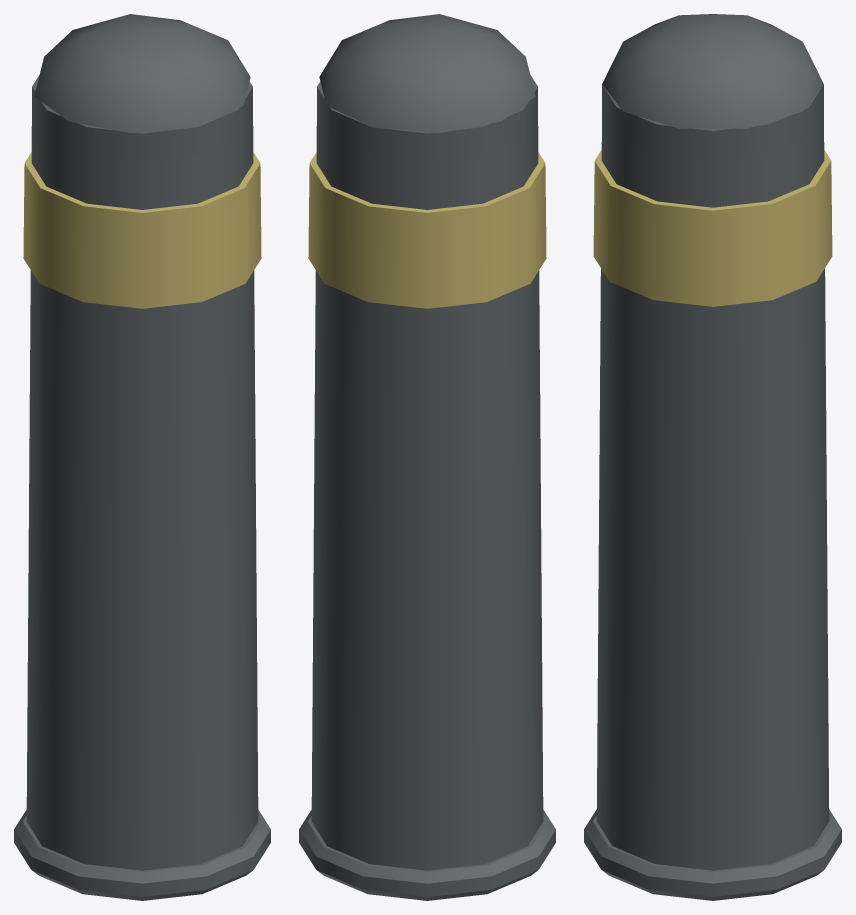
The model's file is bollard.glb.
3 renders of one model, left to right at view 1: azimuth 30°, elevation 25°; view 2: azimuth 150°, elevation 25°; view 3: azimuth 270°, elevation 25°, orthographic.
Visible parts, largest first — view 1: Bollard; view 2: Bollard; view 3: Bollard.
Boxes of the visible parts, x1,y1,x2,y2 form: Bollard: (14,14,270,900); Bollard: (299,14,555,900); Bollard: (584,14,841,900).
Bounding box in the file's own units: 0.244 × 0.86 × 0.244.
